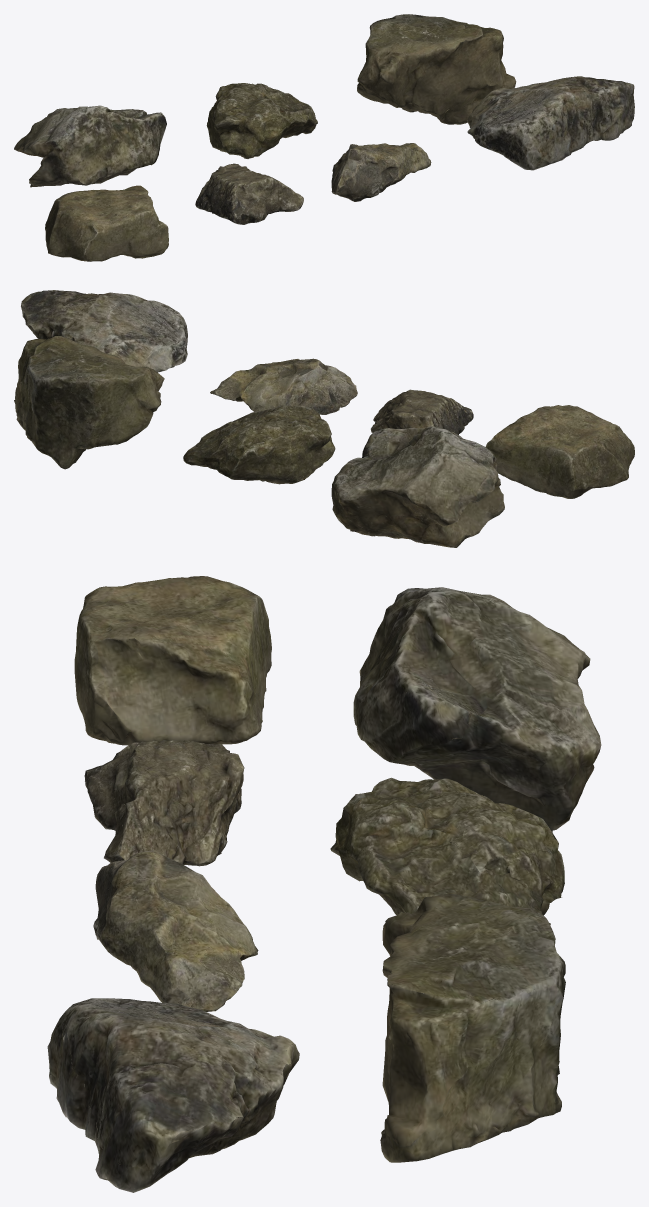
Rendered from rock_moss_set_02.gltf.
3 renders of one model, top to bottom at view 1: azimuth 30°, elevation 25°; view 2: azimuth 150°, elevation 25°; view 3: azimuth 270°, elevation 25°, orthographic. The views are drawn at different scales.
Parts seen in each view (by area): view 1: rock_moss_set_02_rock13, rock_moss_set_02_rock10, rock_moss_set_02_rock11, rock_moss_set_02_rock07, rock_moss_set_02_rock12, rock_moss_set_02_rock08, rock_moss_set_02_rock09; view 2: rock_moss_set_02_rock11, rock_moss_set_02_rock13, rock_moss_set_02_rock07, rock_moss_set_02_rock10, rock_moss_set_02_rock12, rock_moss_set_02_rock09, rock_moss_set_02_rock08; view 3: rock_moss_set_02_rock13, rock_moss_set_02_rock11, rock_moss_set_02_rock10, rock_moss_set_02_rock07, rock_moss_set_02_rock12, rock_moss_set_02_rock09, rock_moss_set_02_rock08.
Boxes of the visible parts, x1,y1,x2,y2 form: rock_moss_set_02_rock13: (357,14,516,124); rock_moss_set_02_rock10: (467,76,634,170); rock_moss_set_02_rock11: (14,105,166,187); rock_moss_set_02_rock07: (45,185,168,261); rock_moss_set_02_rock12: (206,83,317,158); rock_moss_set_02_rock08: (195,163,303,224); rock_moss_set_02_rock09: (331,143,431,201); rock_moss_set_02_rock11: (331,426,504,547); rock_moss_set_02_rock13: (14,336,164,469); rock_moss_set_02_rock07: (485,405,634,498); rock_moss_set_02_rock10: (21,290,187,372); rock_moss_set_02_rock12: (183,405,335,484); rock_moss_set_02_rock09: (210,358,357,414); rock_moss_set_02_rock08: (370,389,473,434); rock_moss_set_02_rock13: (380,894,565,1162); rock_moss_set_02_rock11: (353,587,601,832); rock_moss_set_02_rock10: (47,998,299,1192); rock_moss_set_02_rock07: (74,576,271,745); rock_moss_set_02_rock12: (330,777,564,925); rock_moss_set_02_rock09: (93,850,258,1011); rock_moss_set_02_rock08: (84,740,244,866).
Bounding box in the file's own units: 8.28 × 1.36 × 3.41.
Materials: 1 (1 with a texture image).
